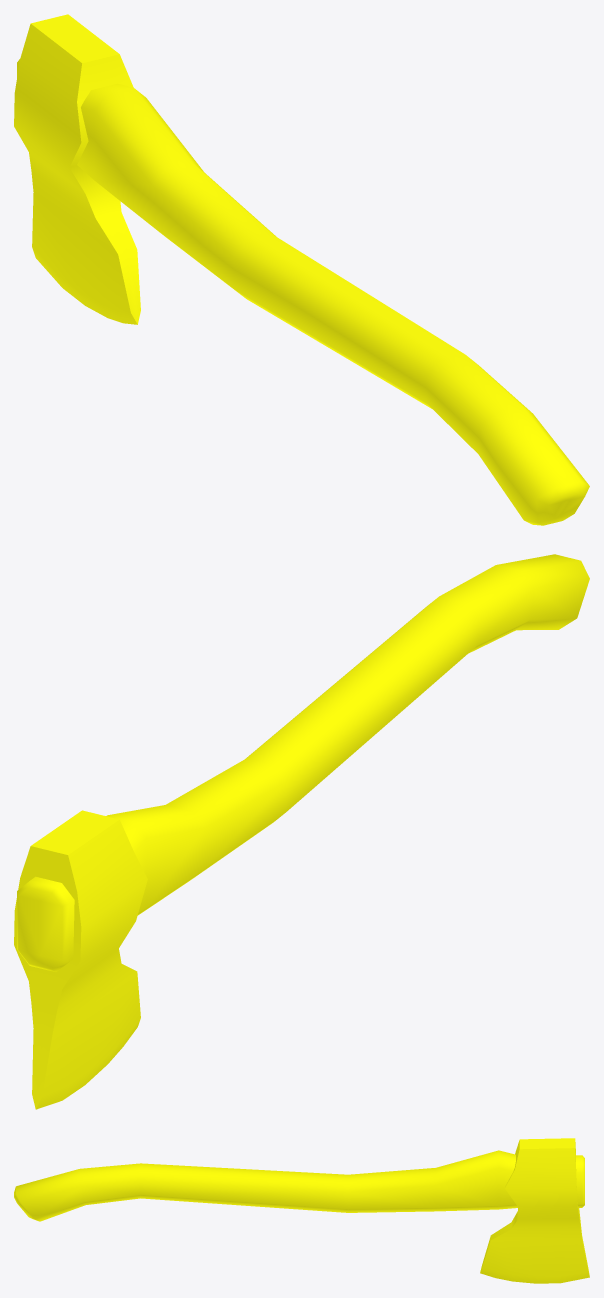
Rendered from melee_axe.glb.
3 views of the same model, one above another, from view 1: azimuth 30°, elevation 25°; view 2: azimuth 150°, elevation 25°; view 3: azimuth 270°, elevation 25° (orthographic). The views are drawn at different scales.
Visible parts, largest first — view 1: Axe; view 2: Axe; view 3: Axe.
Boxes of the visible parts, x1,y1,x2,y2 form: Axe: [14, 14, 589, 525]; Axe: [14, 554, 589, 1109]; Axe: [14, 1138, 589, 1283].
Bounding box in the file's own units: 0.0347 × 0.1298 × 0.4817.
1 material, 1 textured.
